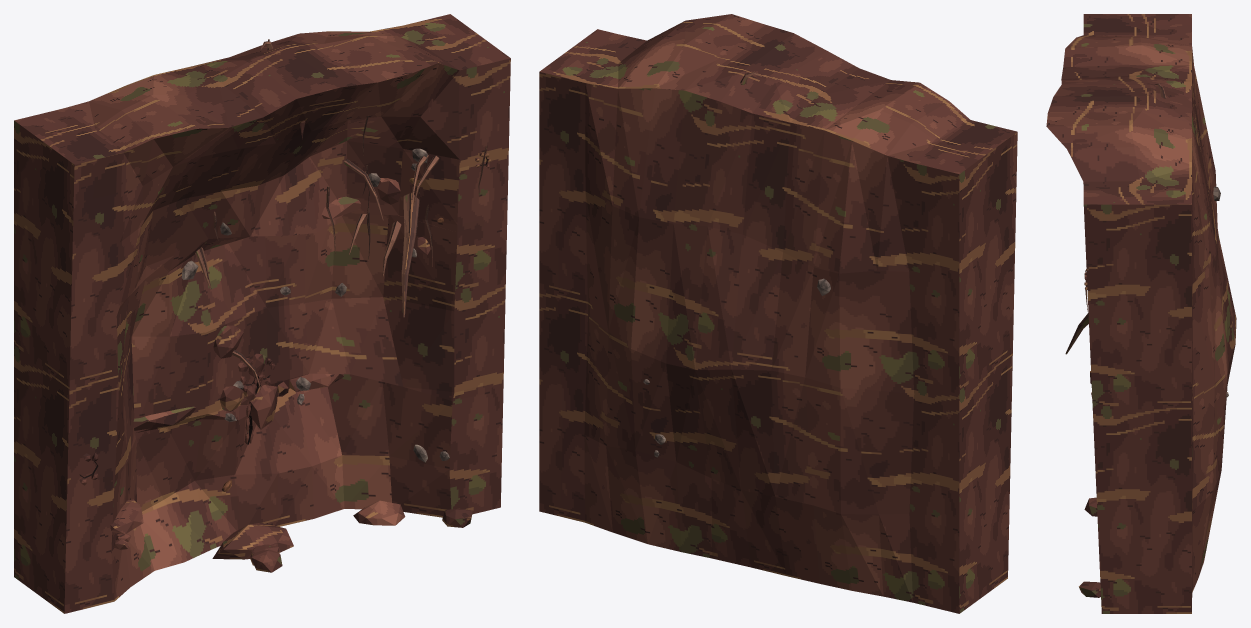
The model's file is SM_AN01_EarthWall_B.fbx.
3 views of the same model, side by side, from view 1: azimuth 30°, elevation 25°; view 2: azimuth 150°, elevation 25°; view 3: azimuth 270°, elevation 25° (orthographic). The views are drawn at different scales.
Visible parts, largest first — view 1: AN01b_Earth, AN01b_Root, AN01b_Props; view 2: AN01b_Earth; view 3: AN01b_Earth, AN01b_Root.
Boxes of the visible parts, bbox=[...] form: AN01b_Earth: bbox=[14, 14, 510, 613]; AN01b_Root: bbox=[195, 39, 487, 389]; AN01b_Props: bbox=[79, 148, 487, 491]; AN01b_Earth: bbox=[539, 14, 1017, 613]; AN01b_Earth: bbox=[1046, 14, 1236, 613]; AN01b_Root: bbox=[1065, 83, 1166, 354].
Bounding box in the file's own units: 4 × 4.31 × 1.68.
